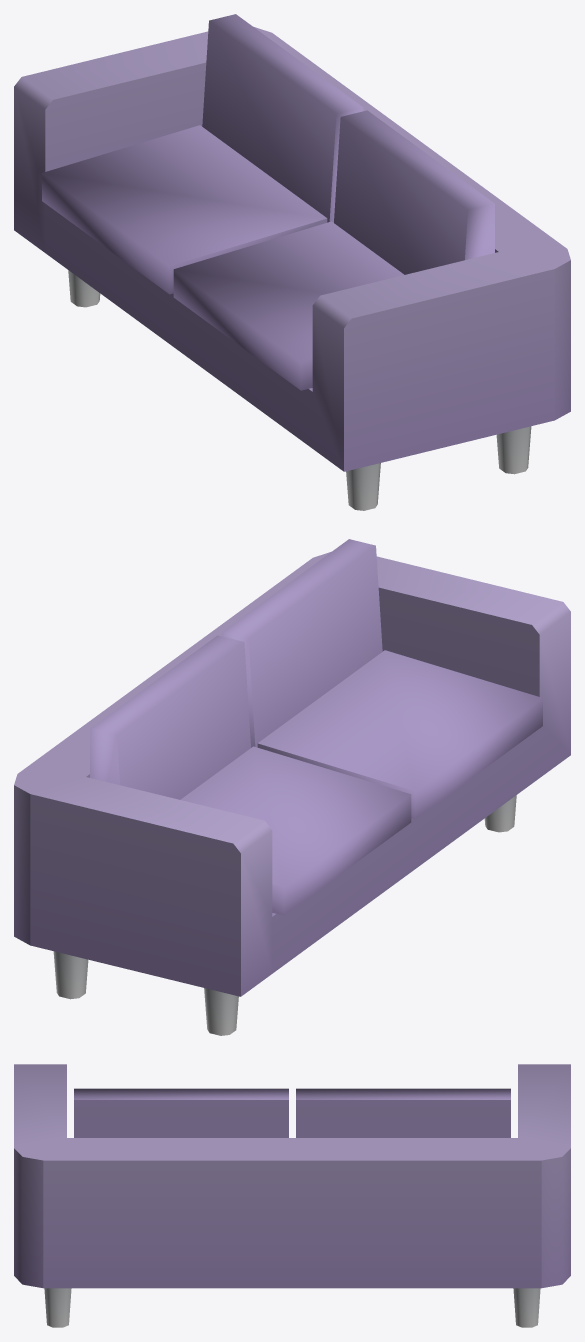
Rendered from stockholm-sofa (%thumbnail).glb.
3 views of the same model, one above another, from view 1: azimuth 30°, elevation 25°; view 2: azimuth 150°, elevation 25°; view 3: azimuth 270°, elevation 25° (orthographic). The views are drawn at different scales.
Visible parts, largest first — view 1: stockholm-sofa (%thumbnail); view 2: stockholm-sofa (%thumbnail); view 3: stockholm-sofa (%thumbnail).
Part boxes in pixels (x1=…): stockholm-sofa (%thumbnail): x1=14, y1=14, x2=570, y2=510; stockholm-sofa (%thumbnail): x1=14, y1=539, x2=570, y2=1035; stockholm-sofa (%thumbnail): x1=14, y1=1064, x2=570, y2=1327.
Size of the model in its own units: 0.693 by 0.6929 by 1.6.
